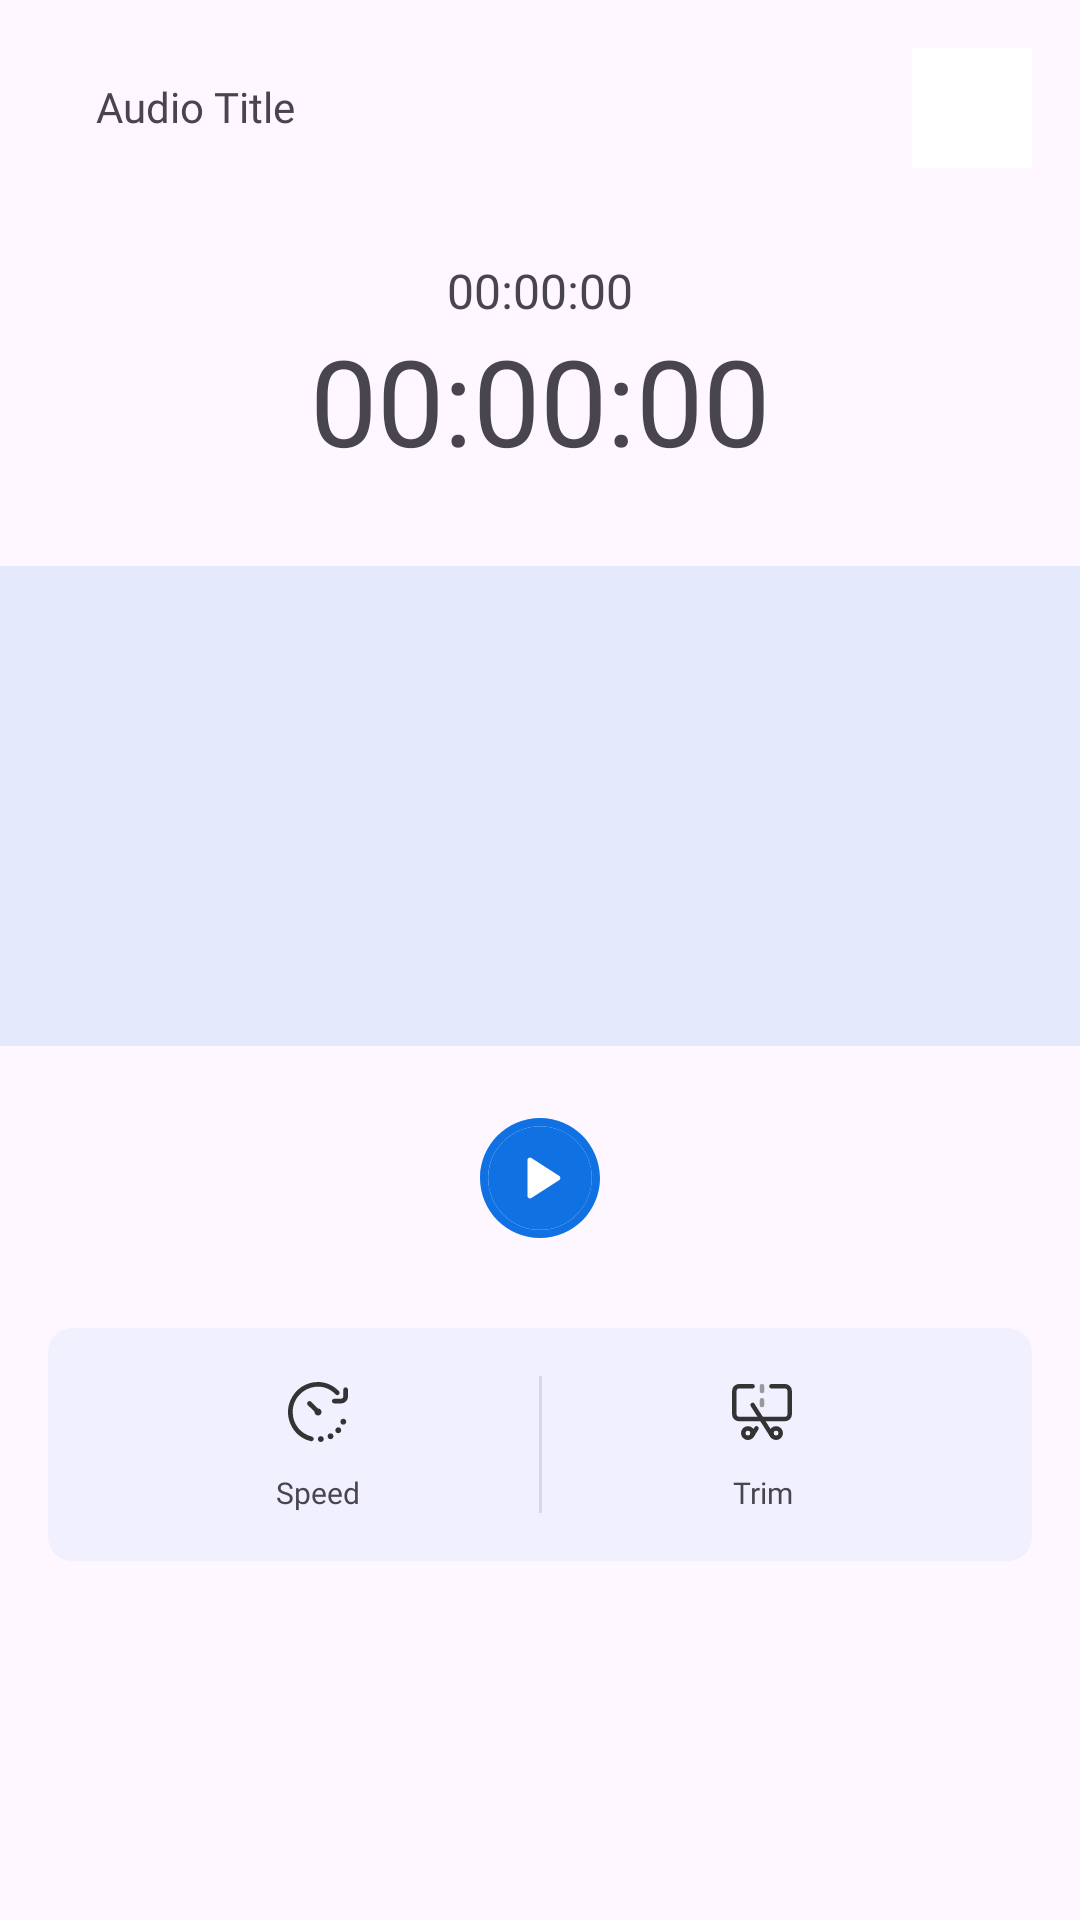

Screen size 1080×1920. Icon name, then its box in pixels as (x1, y1, x2, y2):
play: (480, 1118, 600, 1238)
